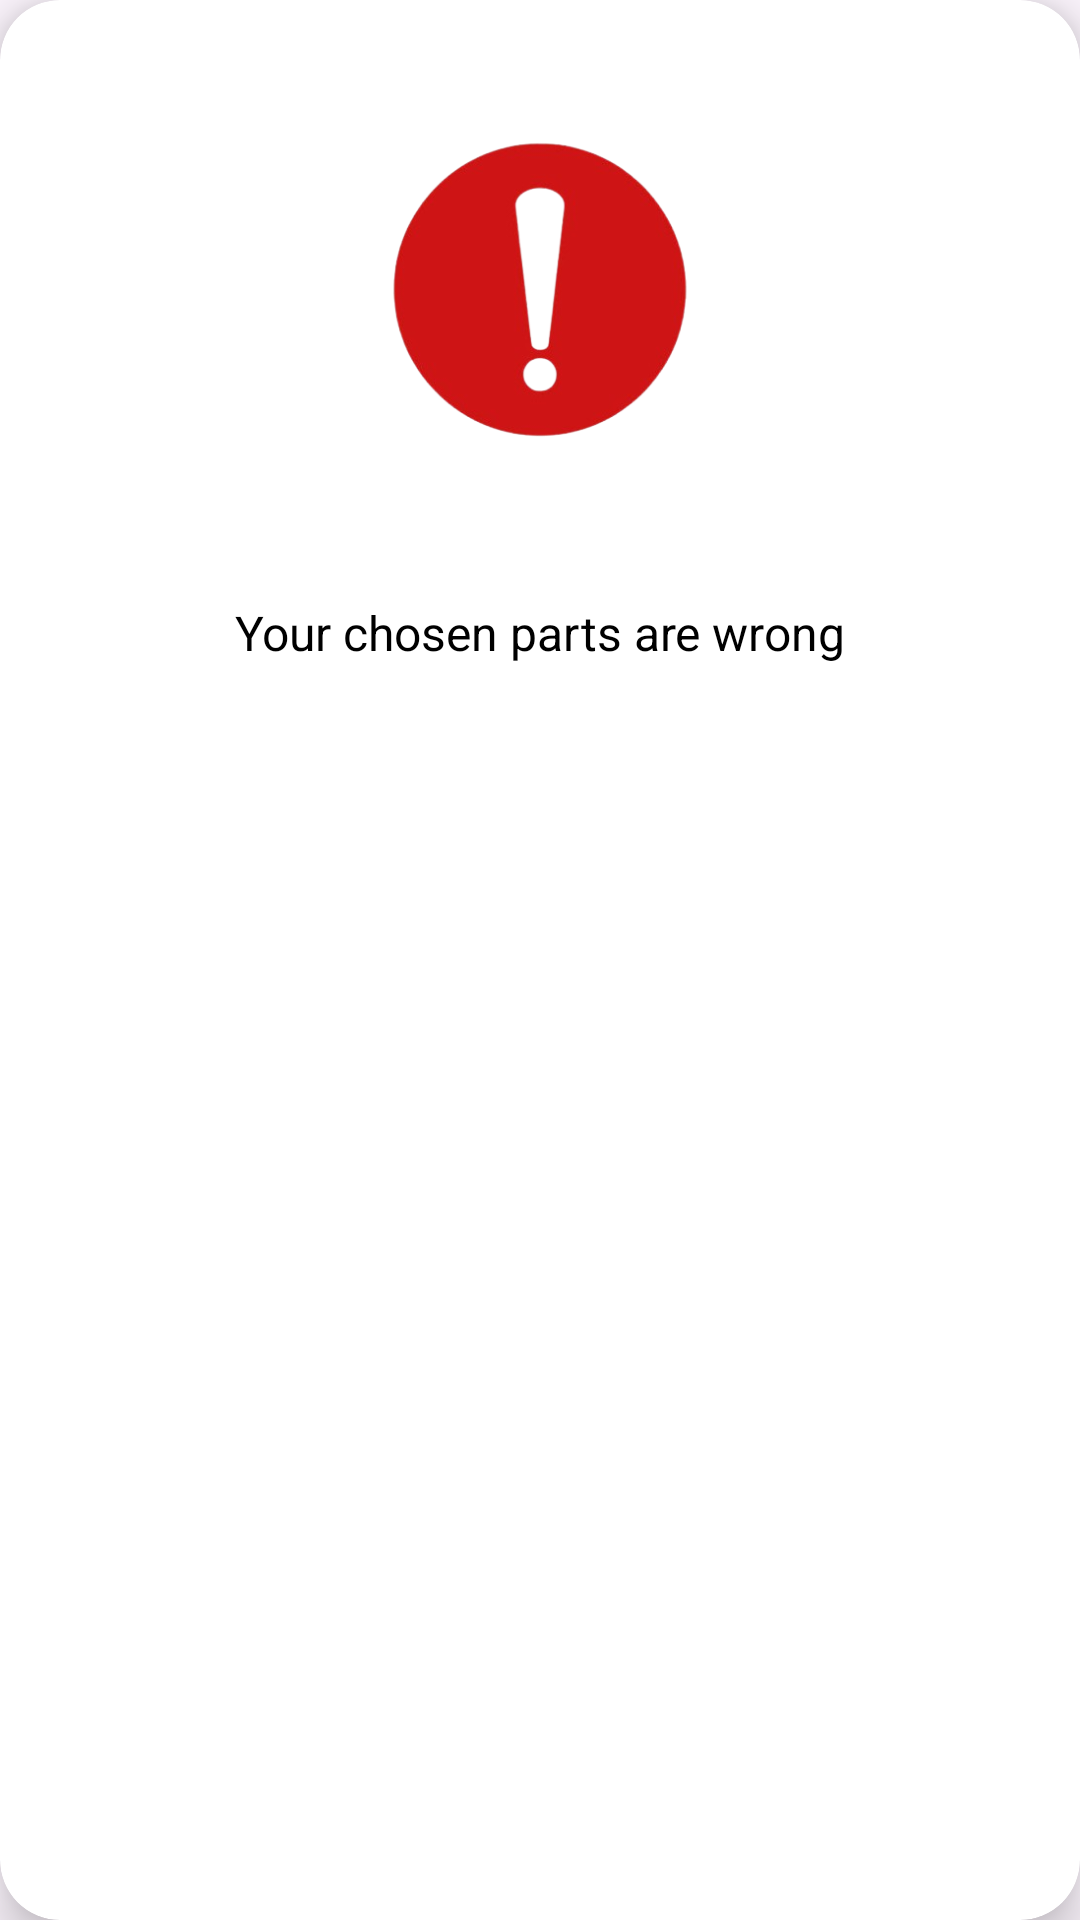

Icons on this 1080px×1920px Android screen, each with its box as (x1, y1, x2, y2):
warningicon: (393, 143, 687, 436)
